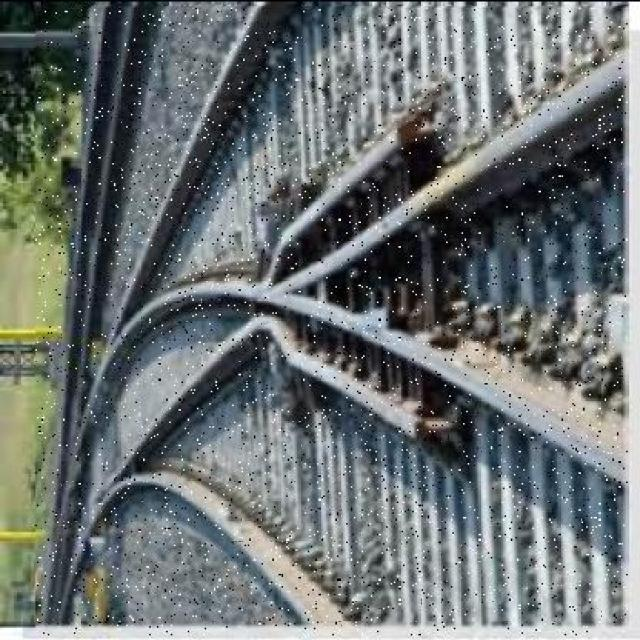rail: (36, 7, 628, 634)
